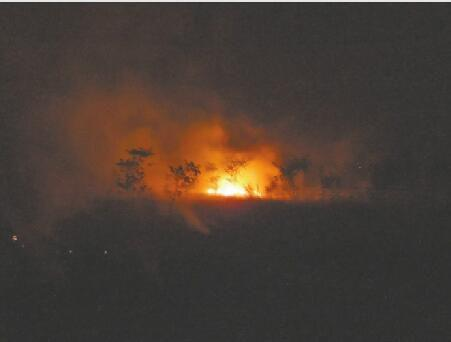fire: (189, 162, 278, 195)
